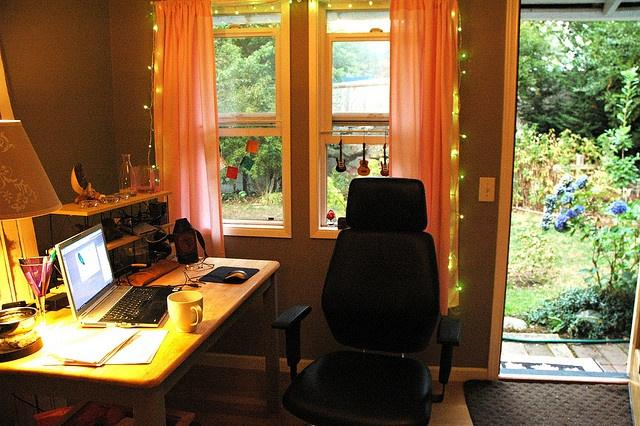Kursi: (270, 176, 461, 425)
Meja: (0, 253, 281, 425)
